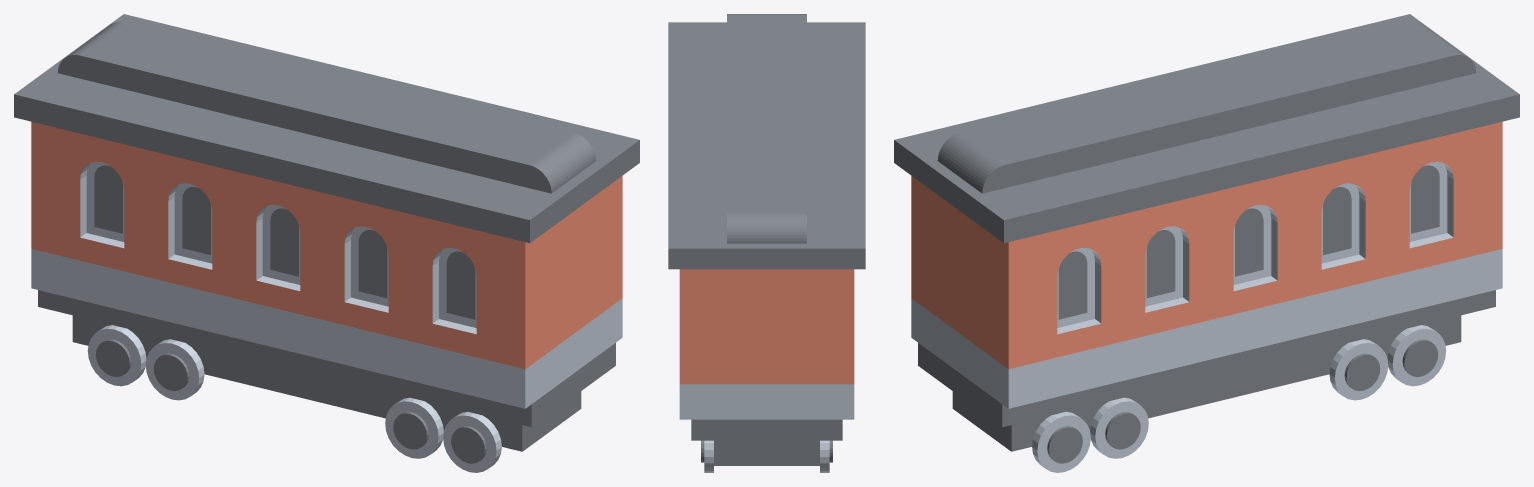
The model's file is wagon.dae.
3 views of the same model, side by side, from view 1: azimuth 30°, elevation 25°; view 2: azimuth 150°, elevation 25°; view 3: azimuth 270°, elevation 25° (orthographic). The views are drawn at different scales.
Visible parts, largest first — view 1: trainWagon; view 2: trainWagon; view 3: trainWagon.
Boxes of the visible parts, x1,y1,x2,y2 form: trainWagon: [14, 14, 639, 472]; trainWagon: [668, 14, 865, 472]; trainWagon: [894, 14, 1519, 472].
Bounding box in the file's own units: 0.6237 × 0.7996 × 0.4361.
